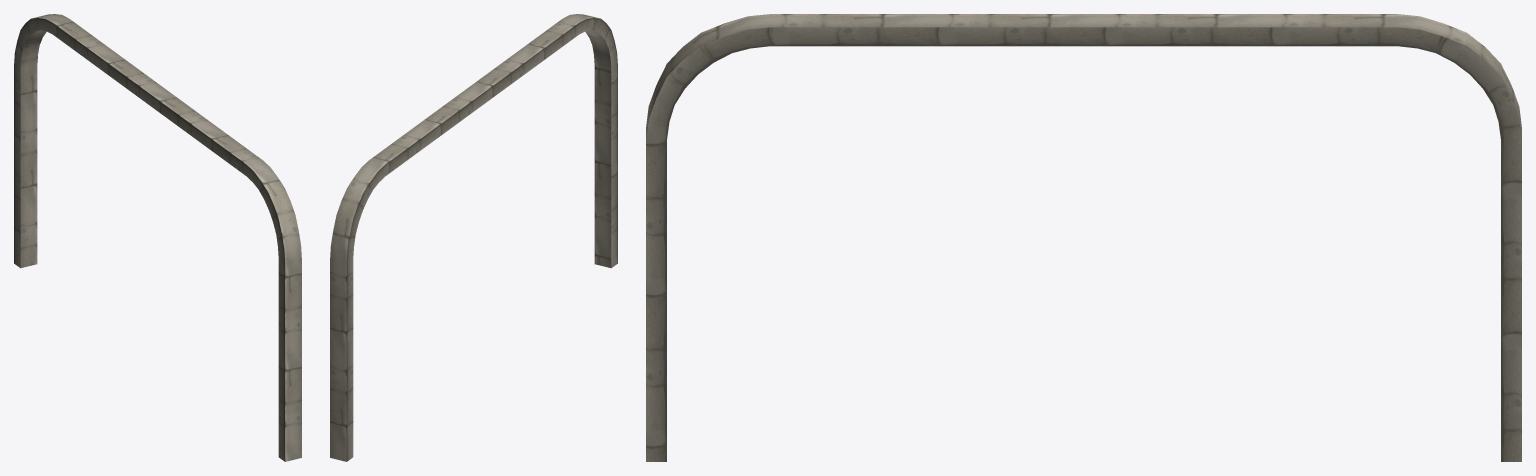
3 renders of one model, left to right at view 1: azimuth 30°, elevation 25°; view 2: azimuth 150°, elevation 25°; view 3: azimuth 270°, elevation 25°, orthographic. The views are drawn at different scales.
Visible parts, largest first — view 1: body0_model0_lod0_mesh0; view 2: body0_model0_lod0_mesh0; view 3: body0_model0_lod0_mesh0.
Boxes of the visible parts, left/top/right/bottom form: body0_model0_lod0_mesh0: left=14, top=14, right=301, bottom=461; body0_model0_lod0_mesh0: left=330, top=14, right=617, bottom=461; body0_model0_lod0_mesh0: left=646, top=14, right=1521, bottom=461.
Bounding box in the file's own units: 12.02 × 184 × 336.
Materials: 1 (1 with a texture image).
